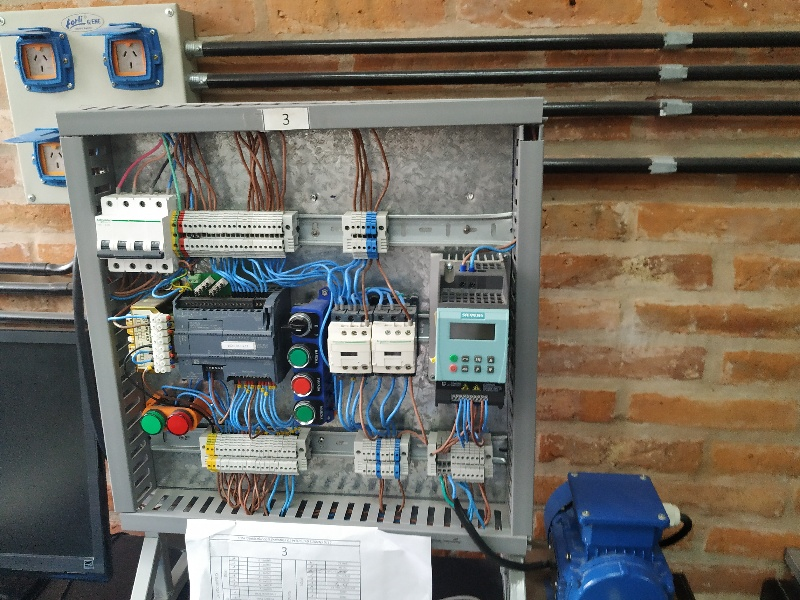Tablero 3: (80, 131, 520, 533)
